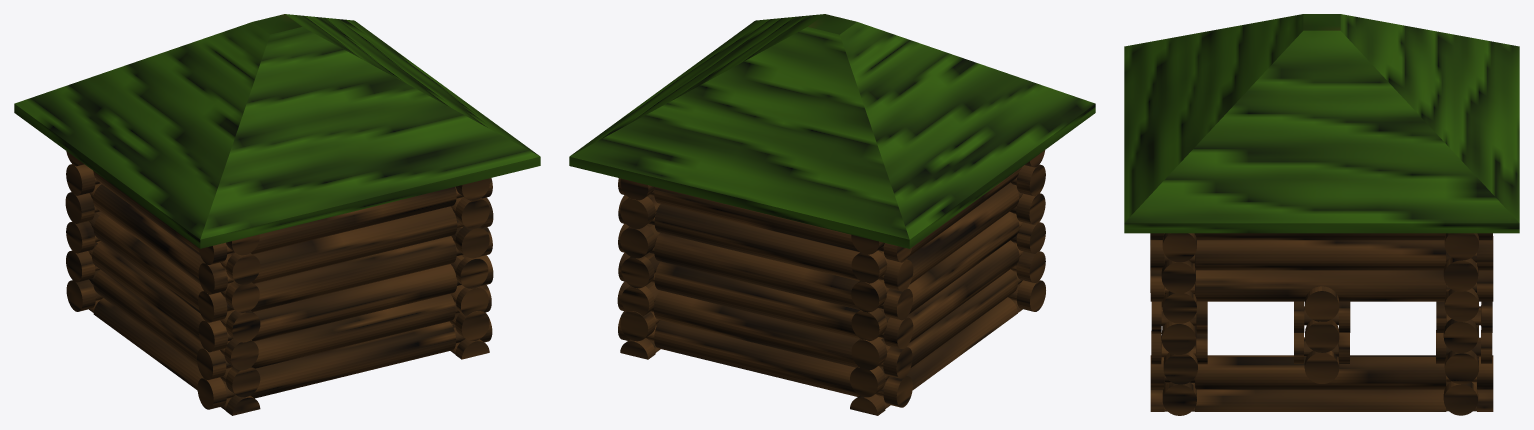
The model's file is PlayerBase.fbx.
3 renders of one model, left to right at view 1: azimuth 30°, elevation 25°; view 2: azimuth 150°, elevation 25°; view 3: azimuth 270°, elevation 25°, orthographic. The views are drawn at different scales.
Parts seen in each view (by area): view 1: PlayerBase; view 2: PlayerBase; view 3: PlayerBase.
Boxes of the visible parts, x1,y1,x2,y2 form: PlayerBase: [14, 14, 540, 415]; PlayerBase: [569, 14, 1095, 415]; PlayerBase: [1124, 14, 1519, 415].
Size of the model in its own units: 2432 by 2062 by 2300.
Materials: 1 (1 with a texture image).
